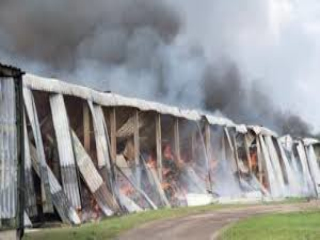fire: (159, 143, 182, 168), (242, 150, 265, 172), (143, 155, 156, 174)
smoke: (16, 9, 311, 130)
